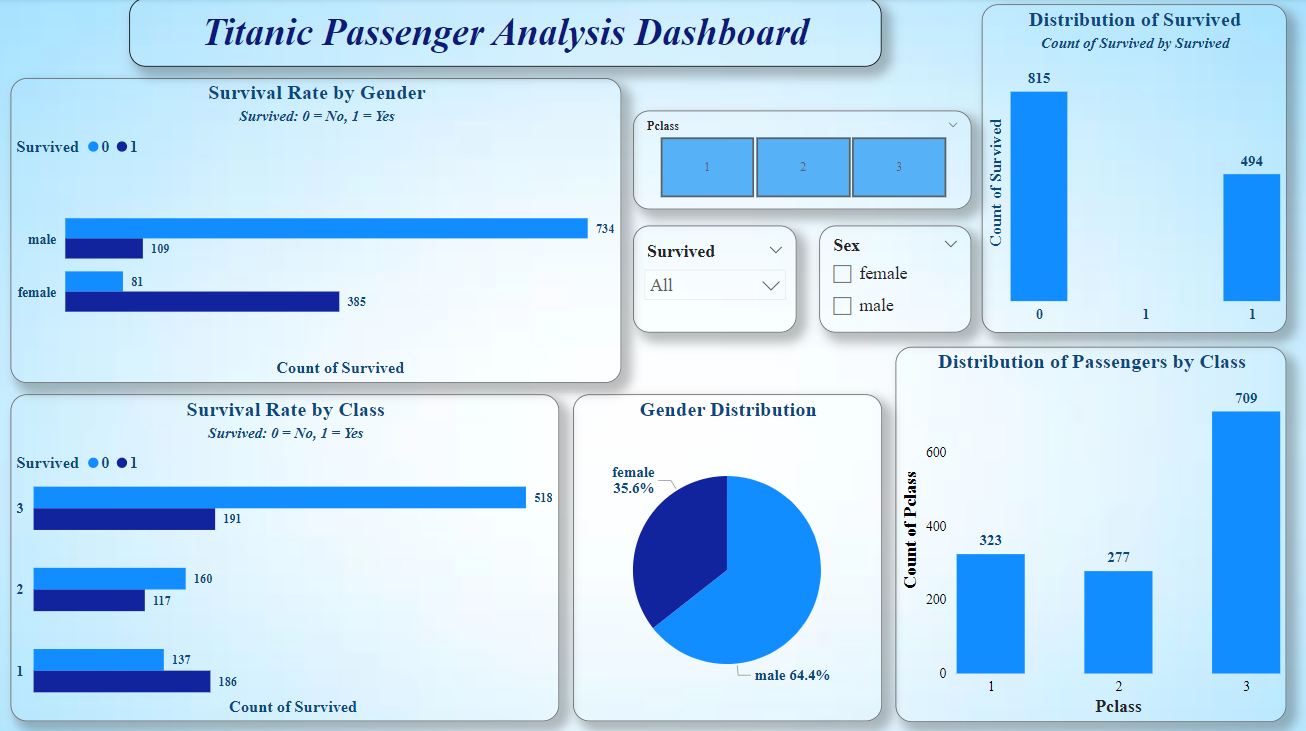

Layout of this report page (visuals, bound fields, positions):
{"tool":"powerbi","page":{"name":"Page 1","canvas":[1280,720],"ordinal":0},"visuals":[{"type":"columnChart","title":"Distribution of Survived","fields":{"Category":["AllData.Survived"],"Y":["CountNonNull(AllData.Survived)"]},"box":[962.4,6.1,298.4,321.6],"z":0},{"type":"clusteredColumnChart","title":"Distribution of Passengers by Class","fields":{"Category":["AllData.Pclass"],"Y":["CountNonNull(AllData.Pclass)"]},"box":[878,341.2,382.7,366.8],"z":1000},{"type":"clusteredBarChart","title":"Survival Rate by Gender","fields":{"Category":["AllData.Sex"],"Series":["AllData.Survived"],"Y":["CountNonNull(AllData.Survived)"]},"box":[12.2,78.3,598,298.4],"z":2000},{"type":"clusteredBarChart","title":"Survival Rate by Class","fields":{"Category":["AllData.Pclass"],"Series":["AllData.Survived"],"Y":["CountNonNull(AllData.Survived)"]},"box":[12.2,387.6,536.8,320.4],"z":3000},{"type":"pieChart","title":"Gender Distribution","fields":{"Y":["CountNonNull(AllData.Sex)"],"Category":["AllData.Sex"]},"box":[562.5,387.6,302,320.4],"z":4000},{"type":"slicer","fields":{"Values":["AllData.Pclass"]},"box":[621.2,110.1,331.4,96.6],"z":5000},{"type":"slicer","fields":{"Values":["AllData.Sex"]},"box":[803.4,222.6,149.2,105.2],"z":6000},{"type":"slicer","fields":{"Values":["AllData.Survived"]},"box":[621.2,222.6,160.2,105.2],"z":7000},{"type":"textbox","box":[128.4,0,736.1,67.3],"z":8000}]}

Visuals, with their boxes in screenshot pixels (x1, y1, x2, y2), scaled from the page's 1280x720 canvas onto the 1306x731 screenshot:
"Distribution of Survived" columnChart: bbox=(982, 6, 1286, 333)
"Distribution of Passengers by Class" clusteredColumnChart: bbox=(896, 346, 1286, 719)
"Survival Rate by Gender" clusteredBarChart: bbox=(12, 79, 623, 382)
"Survival Rate by Class" clusteredBarChart: bbox=(12, 394, 560, 719)
"Gender Distribution" pieChart: bbox=(574, 394, 882, 719)
slicer - AllData.Pclass: bbox=(634, 112, 972, 210)
slicer - AllData.Sex: bbox=(820, 226, 972, 333)
slicer - AllData.Survived: bbox=(634, 226, 797, 333)
textbox: bbox=(131, 0, 882, 68)
